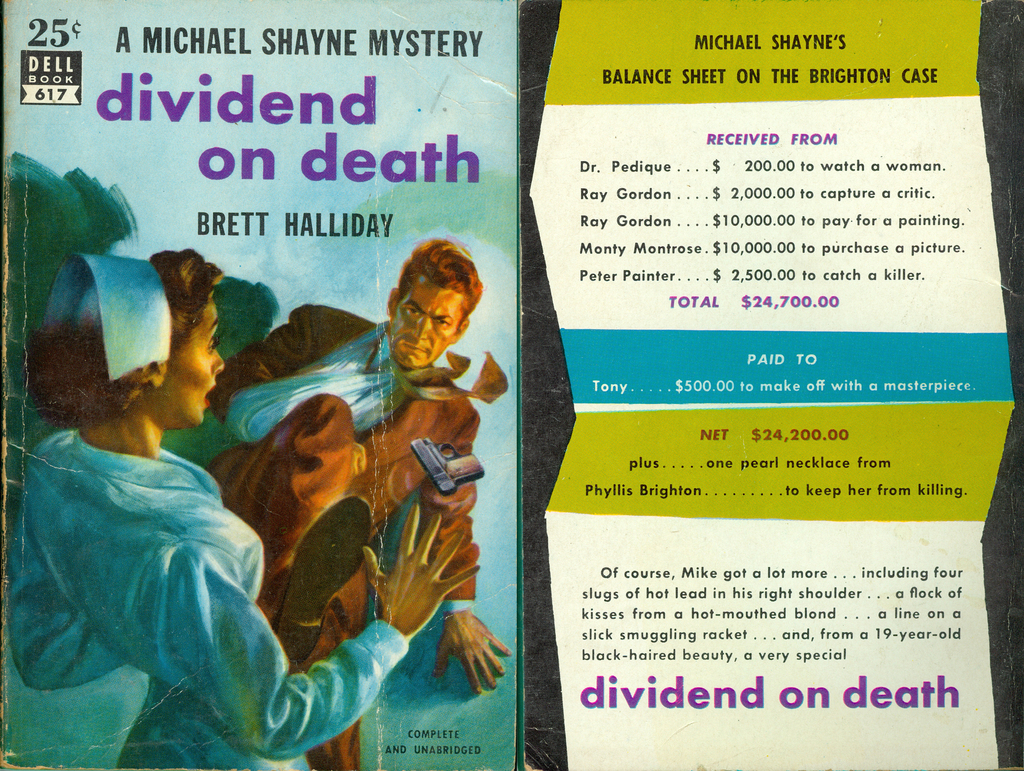Human-face: (164, 297, 226, 428), (387, 274, 465, 370)
